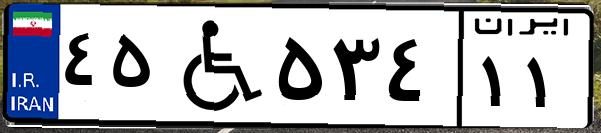1: (475, 38, 525, 113), (525, 38, 570, 115)
3: (330, 28, 385, 110)
4: (385, 28, 445, 110), (57, 26, 110, 100)
5: (270, 28, 330, 110), (110, 28, 158, 98)
ژ (معلولین و جانبازان): (158, 12, 270, 120)
